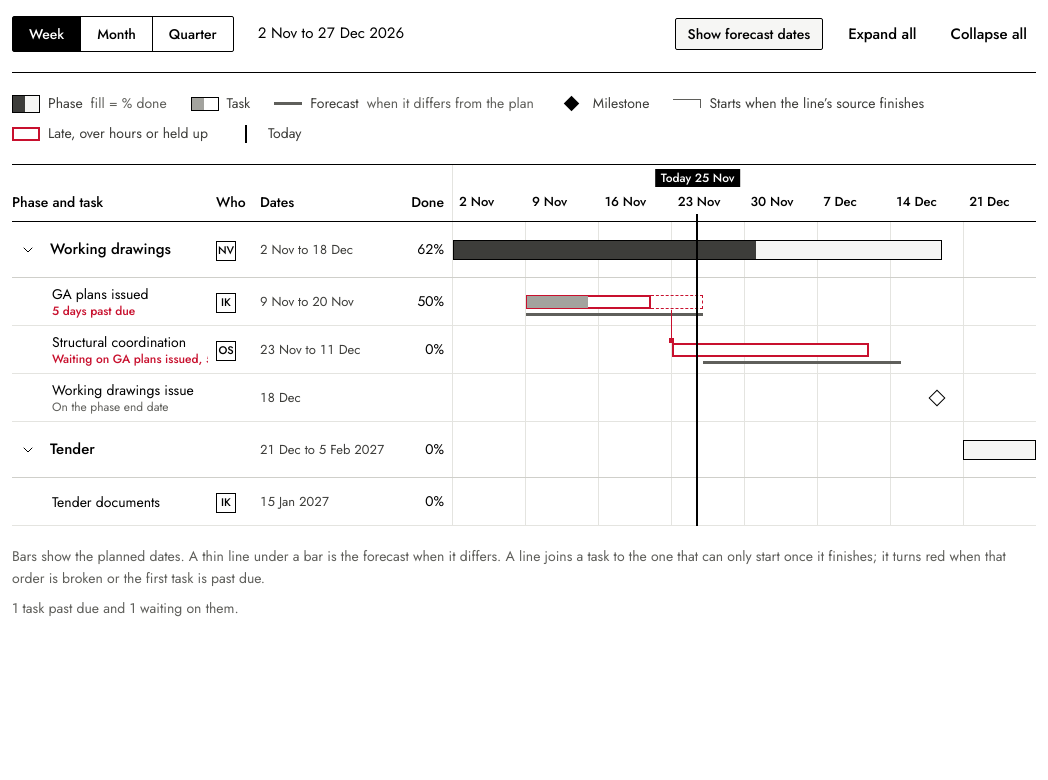
Test: project timeline in live mode › Undo drops the draft without saving
Check: the table is shown, box [12,164,1036,526]
Step 1. Press the mouse on the button named "Structural coordination, Omar Siddiqui, 23 Nov to 11 Dec 202" → {"x": 770, "y": 350}, box [672,343,869,357]
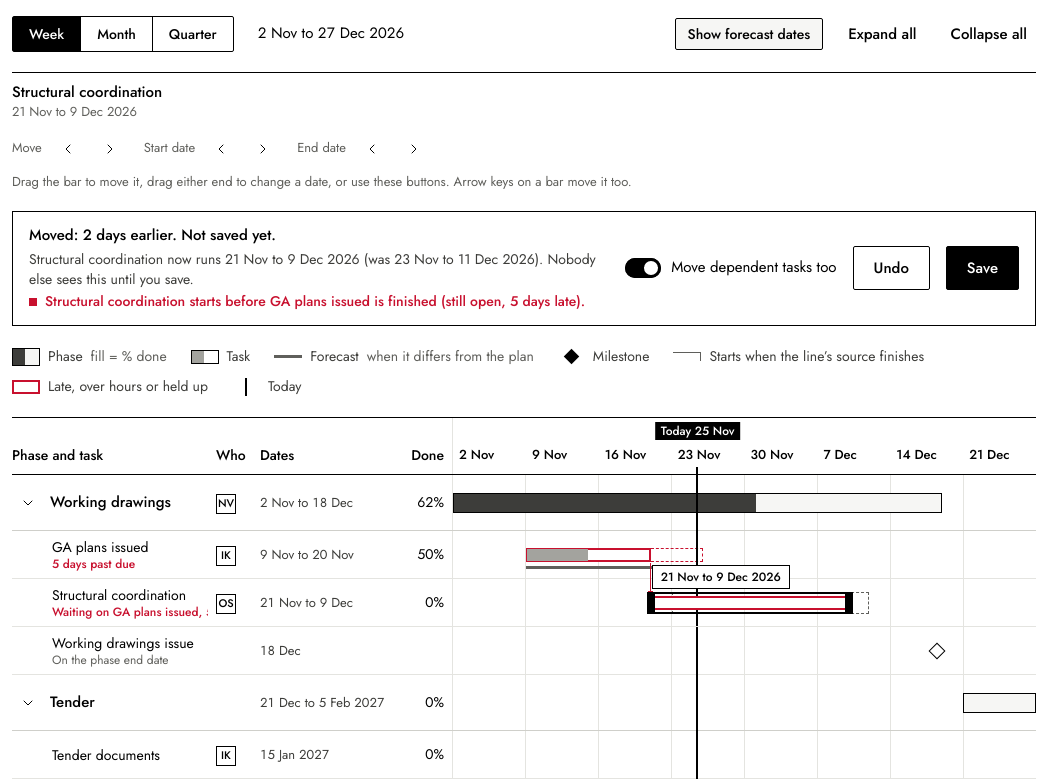
Check: the text "Moved: 2 days earlier. Not saved yet." is shown, box [29,224,276,246]
Check: the text "Structural coordination starts before GA plans issued is finished" is shown, box [45,291,585,311]
Step 2. Click the button "Undo" → {"x": 891, "y": 268}, box [853,246,930,290]
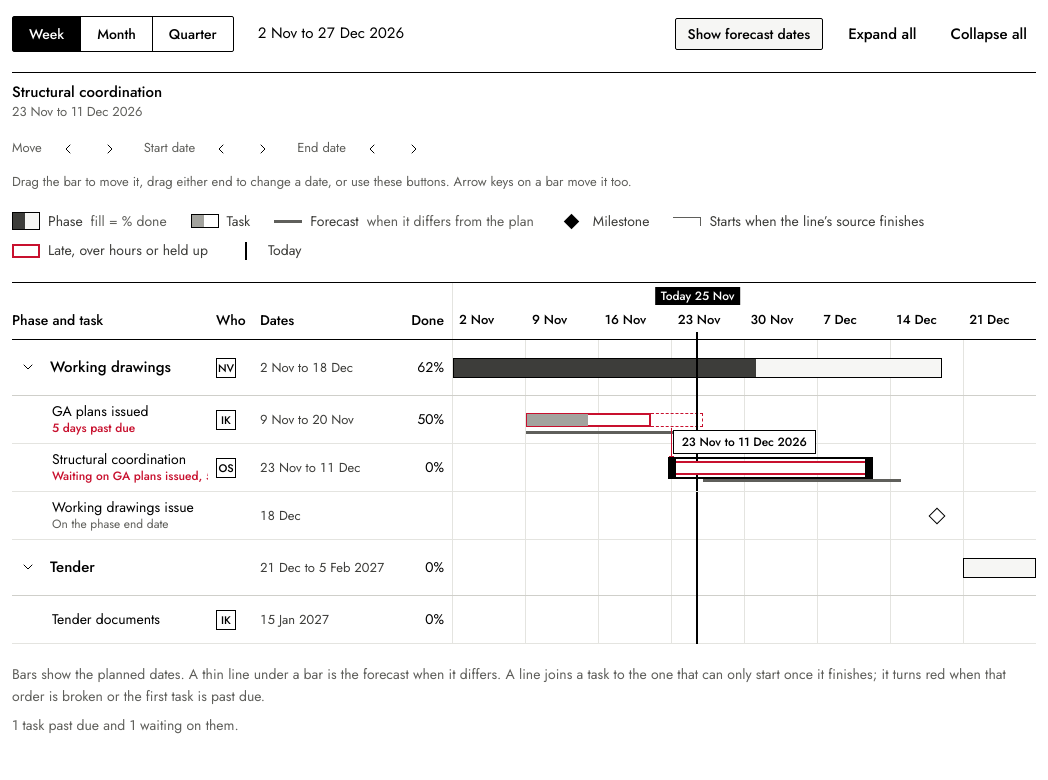
Check: the text "Not saved yet" is gone
Check: the text "23 Nov to 11 Dec" is shown, box [260,458,360,477]
